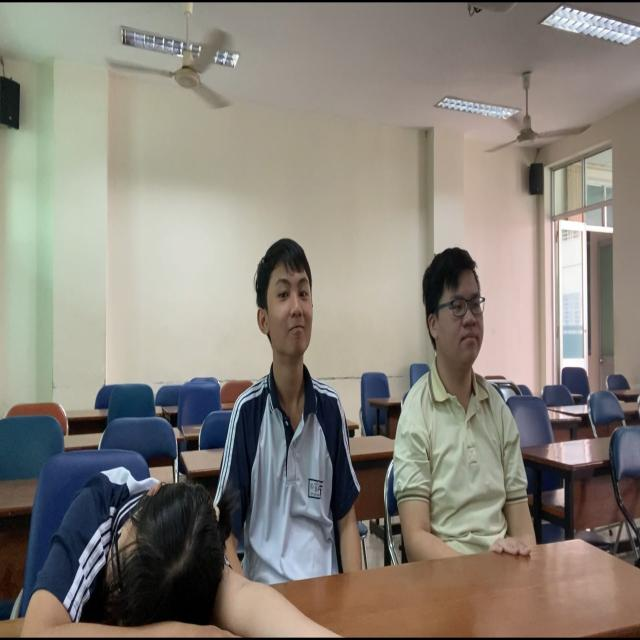sleep: (1, 434, 269, 640)
